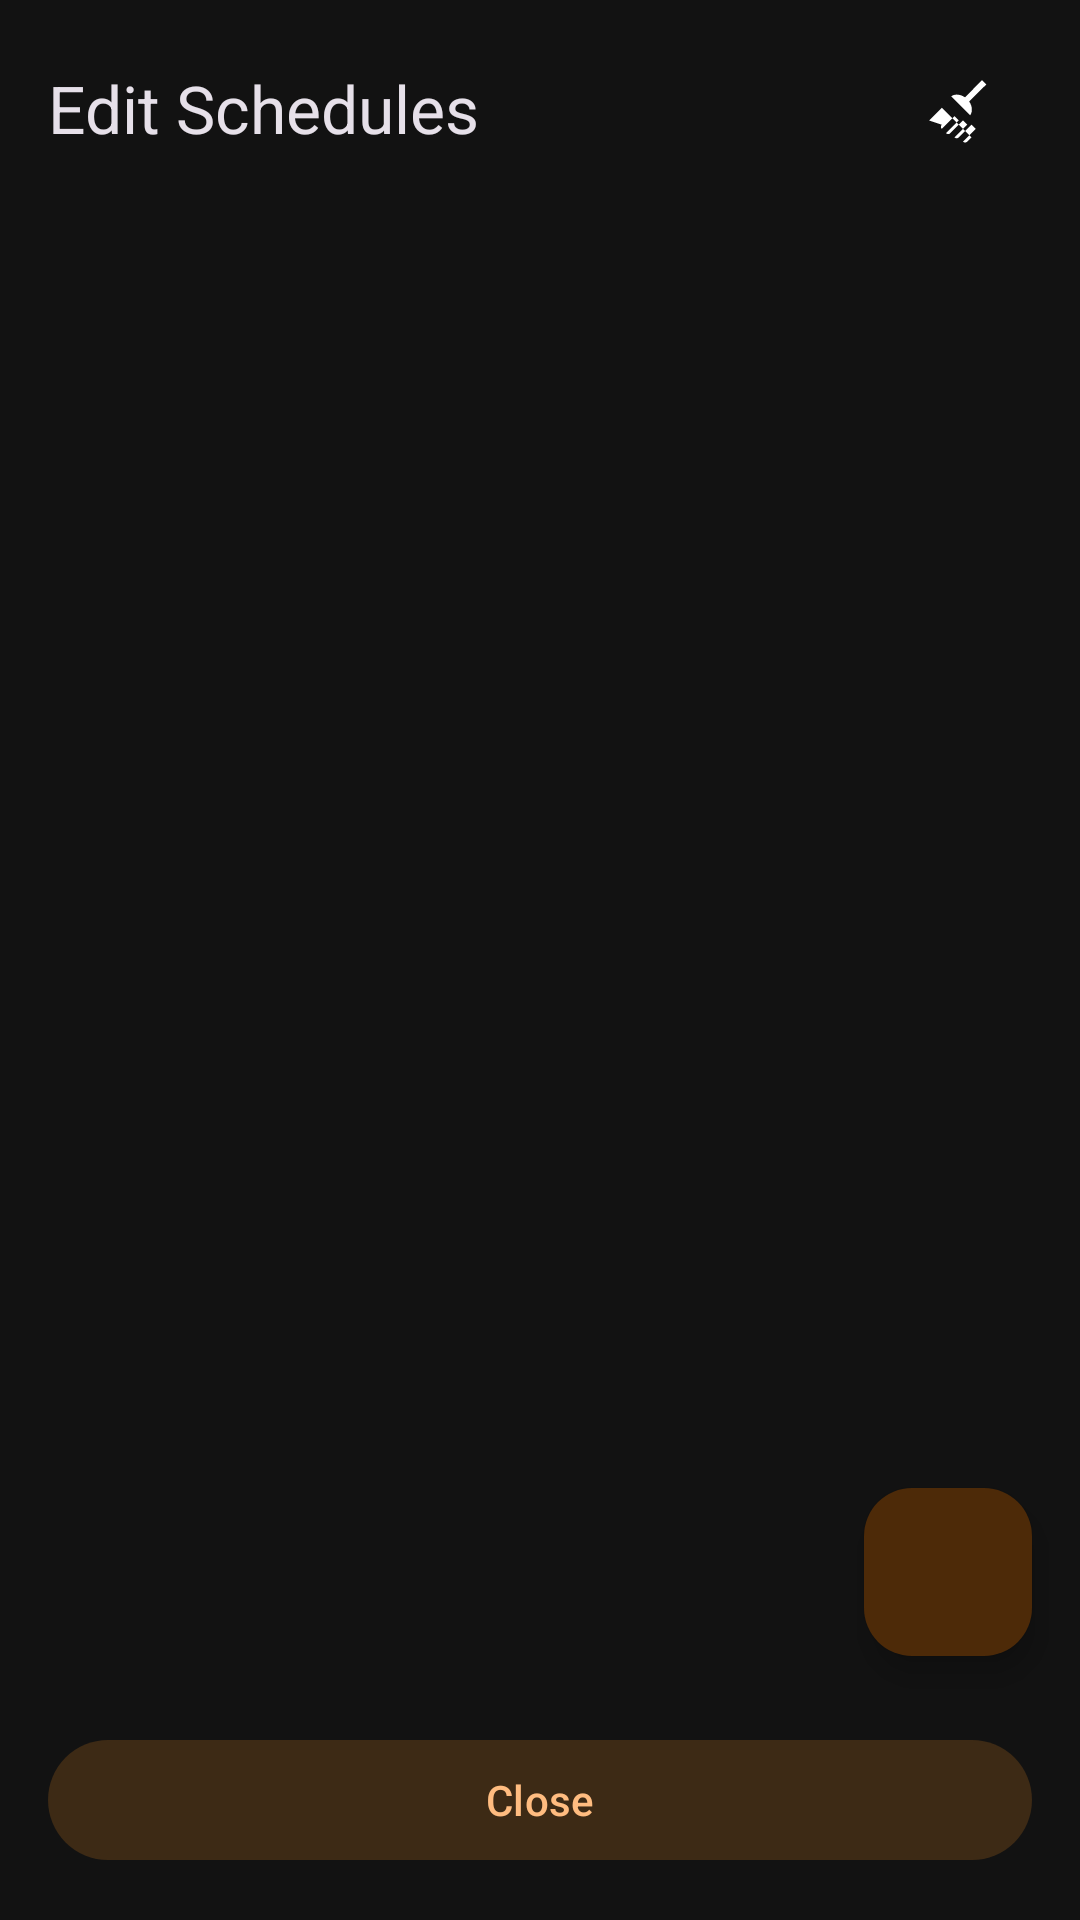

Screen size 1080 × 1920. Icon name, then its center in pixels as point (x, y):
Clear Outdated: point (958, 111)
